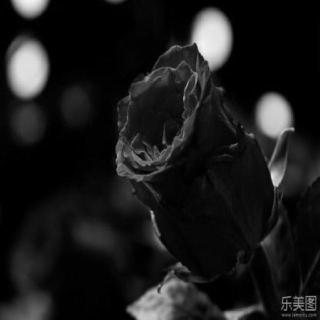other: (111, 68, 237, 174), (258, 93, 290, 135)
